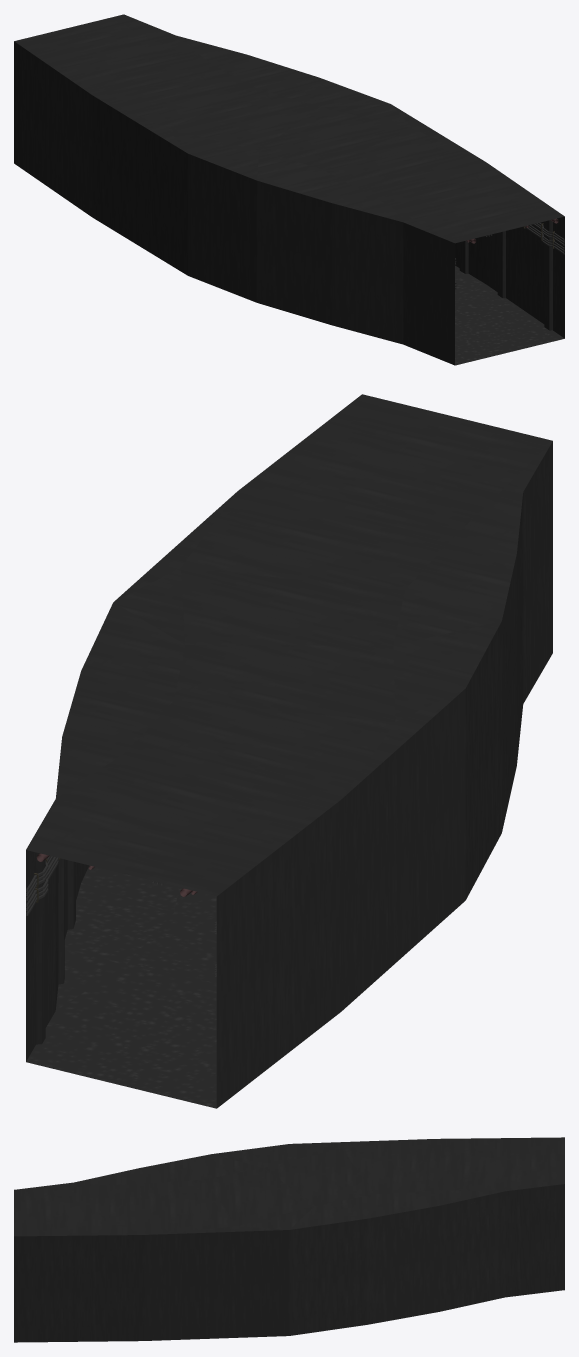
Rendered from SW_ENV_RailTunnel_JogLeft_FF.fbx.
The picture shows the model from 3 angles, top to bottom: view 1: azimuth 30°, elevation 25°; view 2: azimuth 150°, elevation 25°; view 3: azimuth 270°, elevation 25°; orthographic projection. The views are drawn at different scales.
Parts seen in each view (by area): view 1: SW_ENV_RailTunnel_JogLeft_FF; view 2: SW_ENV_RailTunnel_JogLeft_FF; view 3: SW_ENV_RailTunnel_JogLeft_FF.
Part boxes in pixels (x1=…): SW_ENV_RailTunnel_JogLeft_FF: x1=14, y1=14, x2=564, y2=365; SW_ENV_RailTunnel_JogLeft_FF: x1=26, y1=394, x2=552, y2=1108; SW_ENV_RailTunnel_JogLeft_FF: x1=14, y1=1137, x2=564, y2=1342.
Size of the model in its own units: 8.5 by 4.25 by 20.
